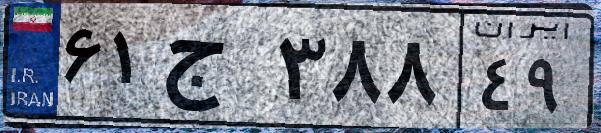1: (110, 28, 158, 98)
3: (270, 28, 330, 110)
4: (475, 38, 525, 113)
6: (57, 26, 110, 100)
8: (385, 28, 445, 110), (330, 28, 385, 110)
9: (525, 38, 570, 115)
ج: (158, 20, 270, 120)
